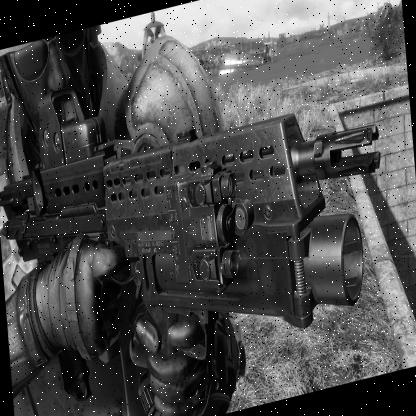rifle: (0, 21, 406, 406)
